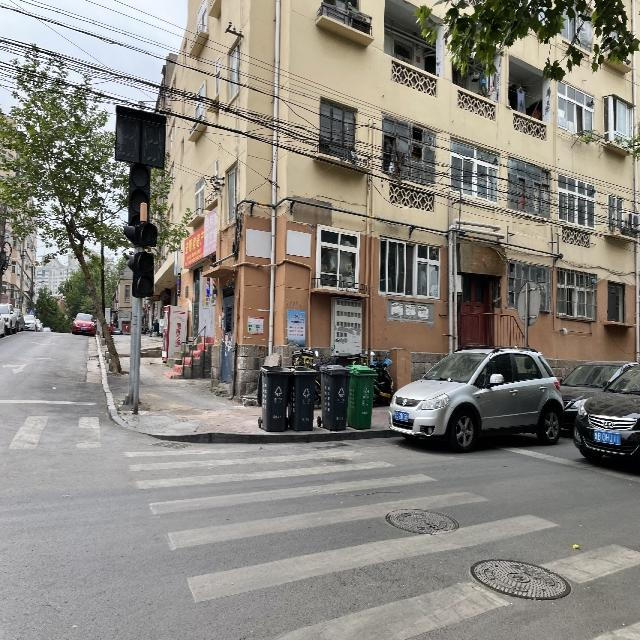garbage_bin: (258, 365, 290, 431), (318, 362, 348, 431), (346, 364, 377, 429), (287, 367, 316, 430)
